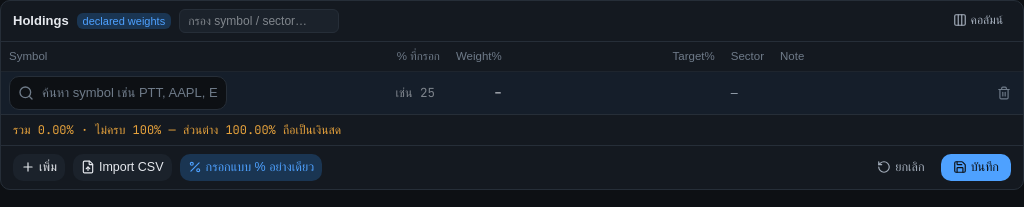
Scenario: HoldingsTable › leaving %-only mode turns a new weight row into a value row with the mode menu
Click the button with test id "percent-mode": (251, 167) [180, 154, 322, 181]
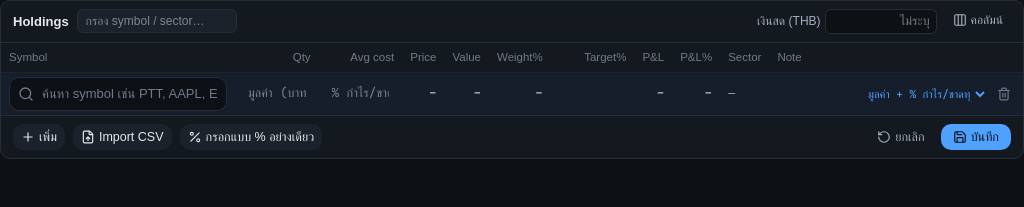
Now the dropdown with test id "row-mode" shows "มูลค่า + % กำไร/ขาดทุน", box [861, 85, 989, 103]
